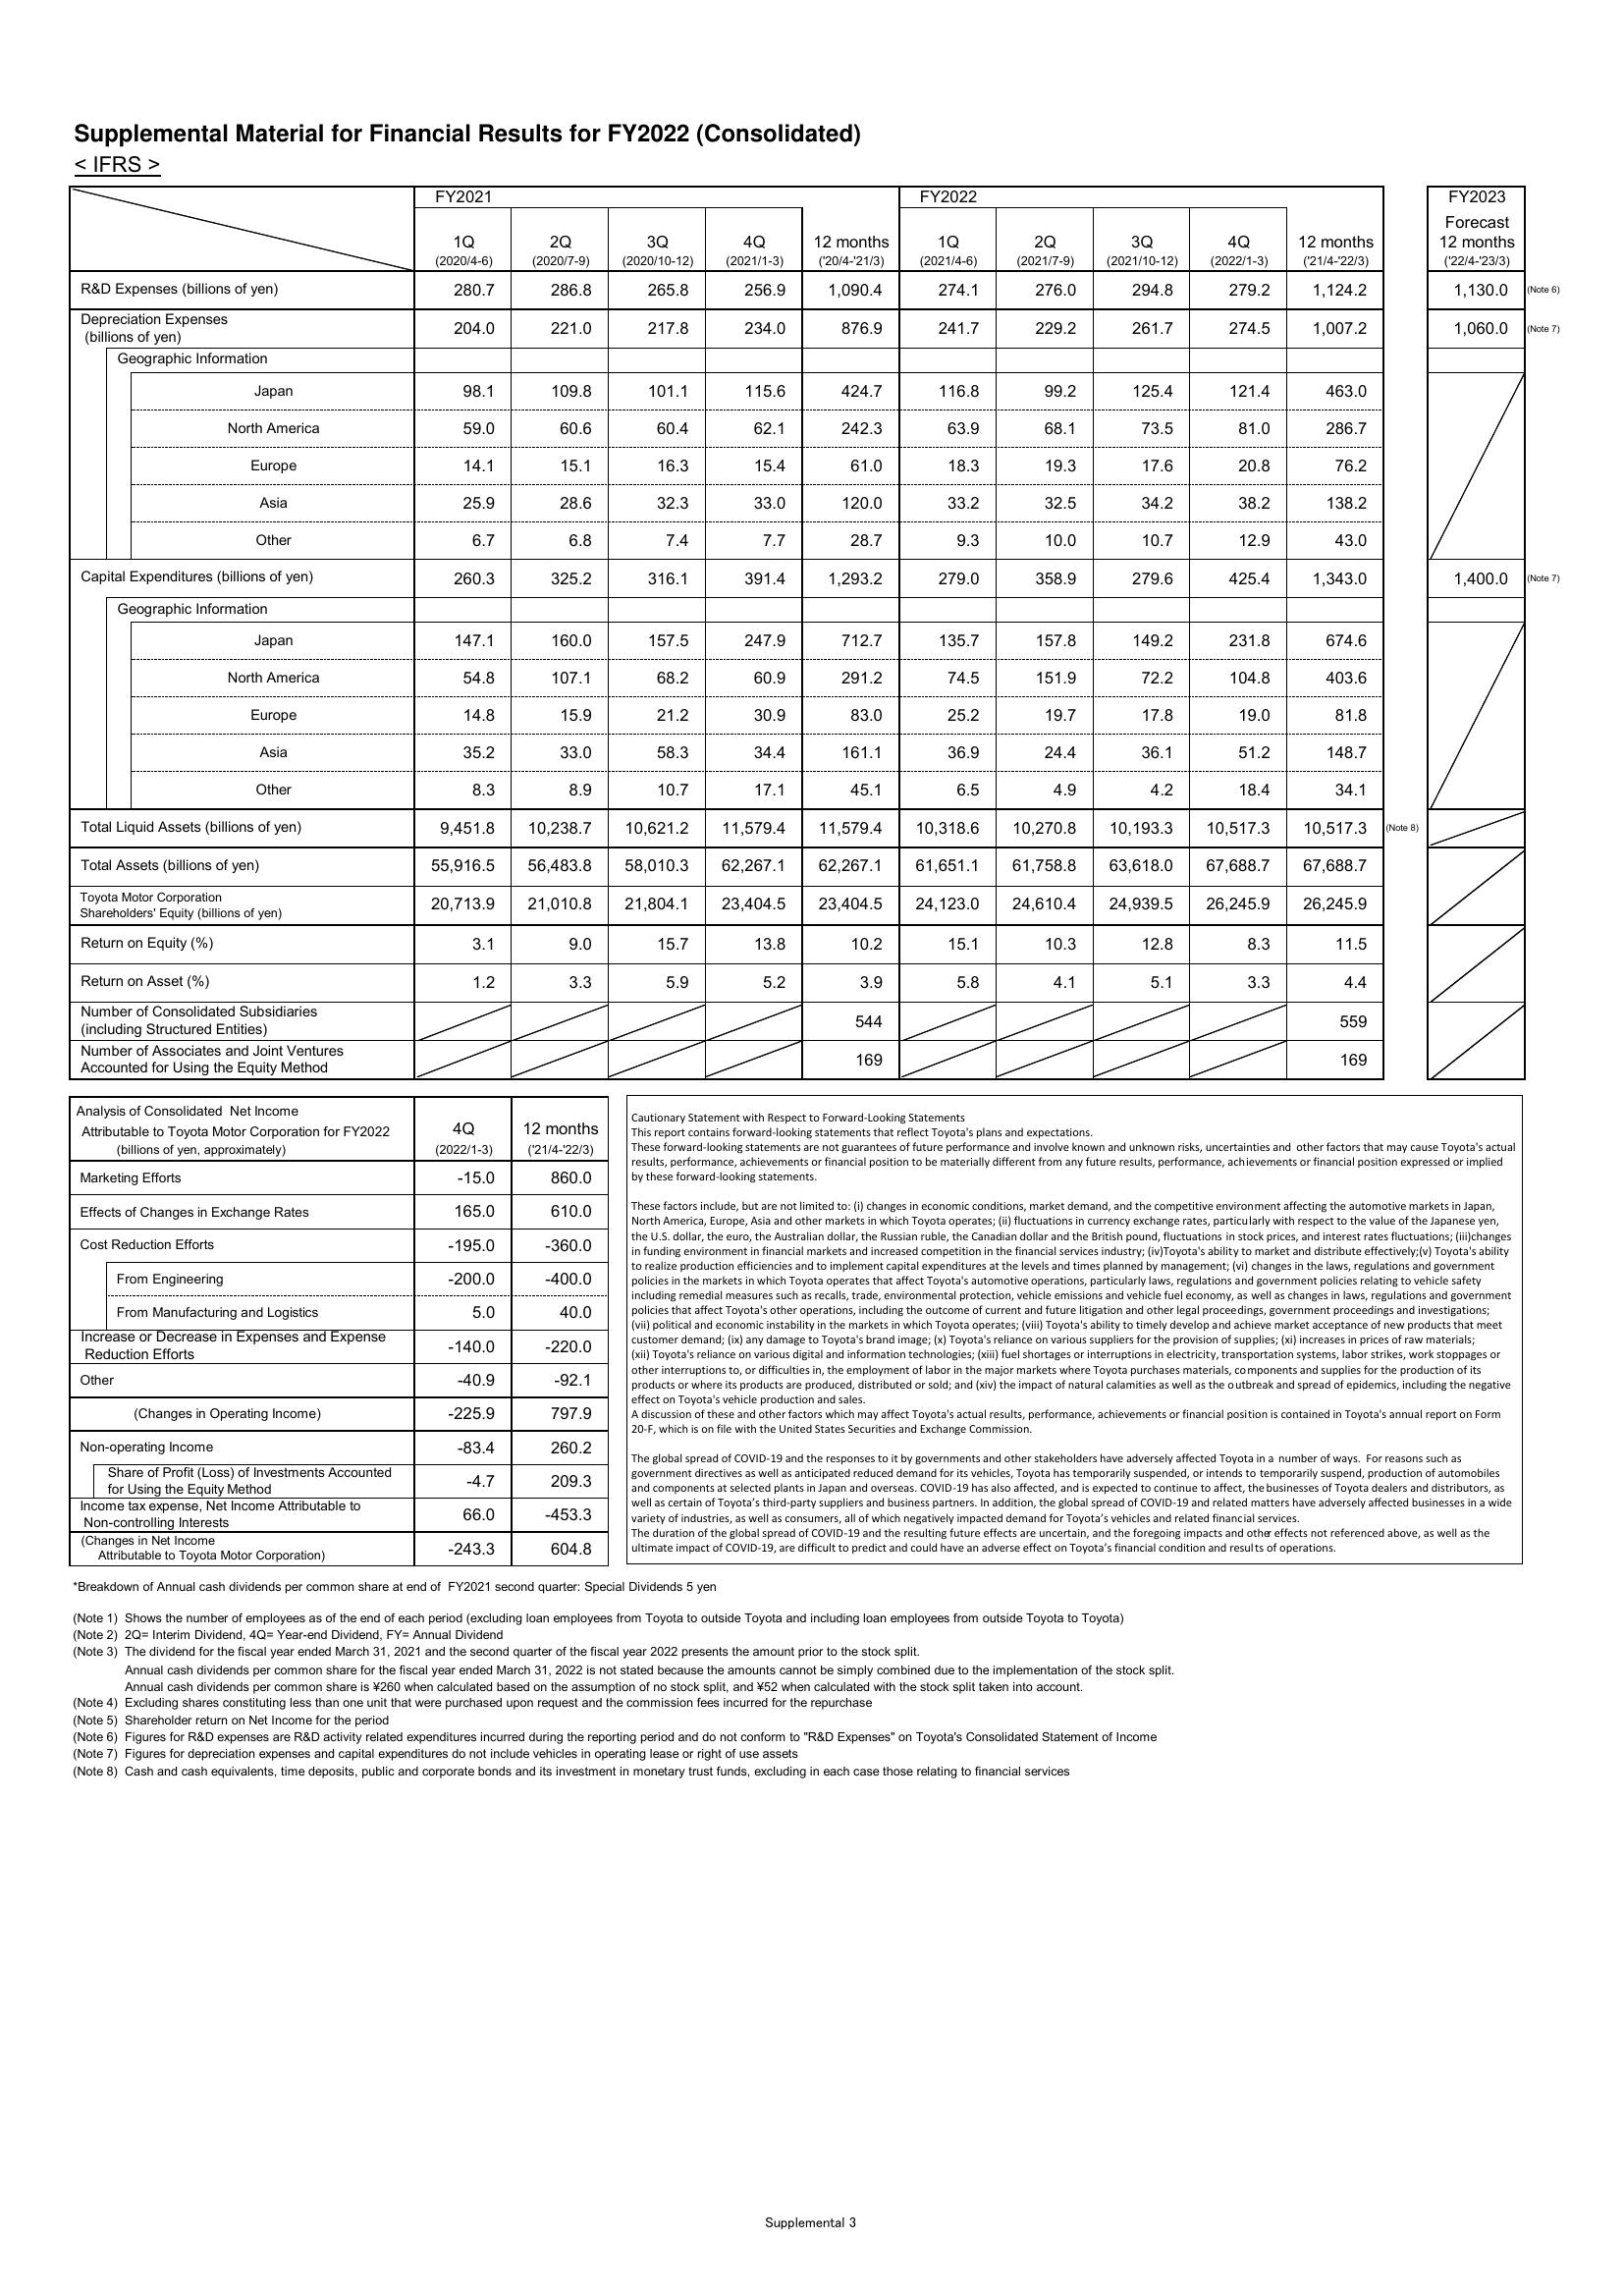Footer: (0, 2183, 1624, 2296)
Header: (0, 0, 1624, 98)
Table: (11, 171, 1559, 1589)
